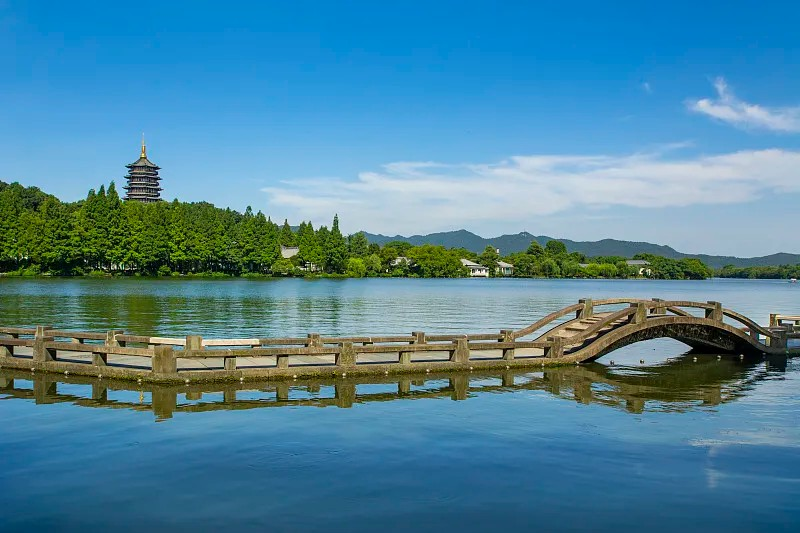Leifeng: (123, 133, 164, 204)
